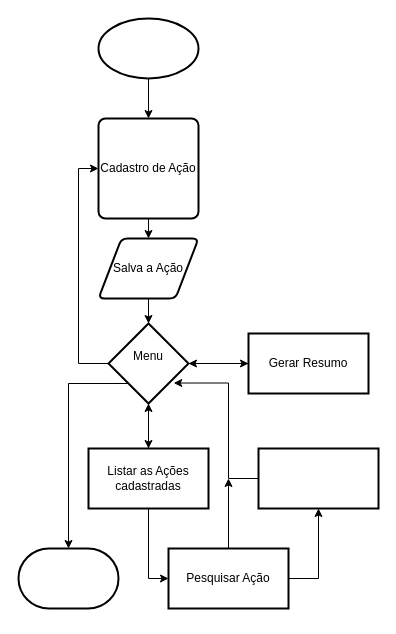
The diagram is 396 pixels wide and 634 high, and some of its shapes have lost their labels. Here are the shapes that lost their labels. From the top down, the box of each, then its label:
(97, 17, 199, 79): Inicio
(257, 447, 379, 509): Atualizar a situação da Ação
(17, 547, 119, 609): Fim
